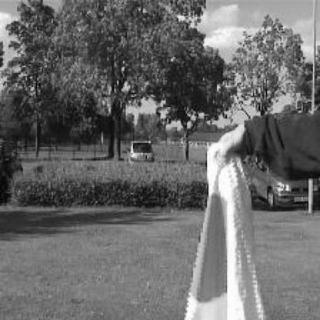other: (179, 184, 237, 307)
